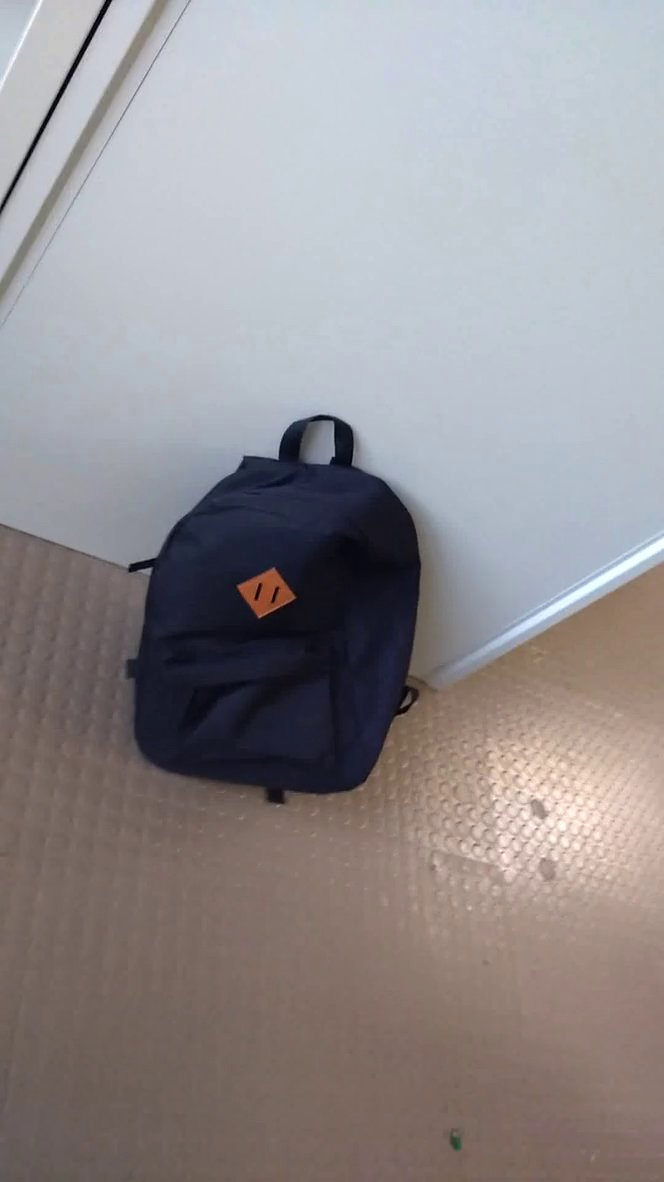bag: (115, 402, 460, 822)
